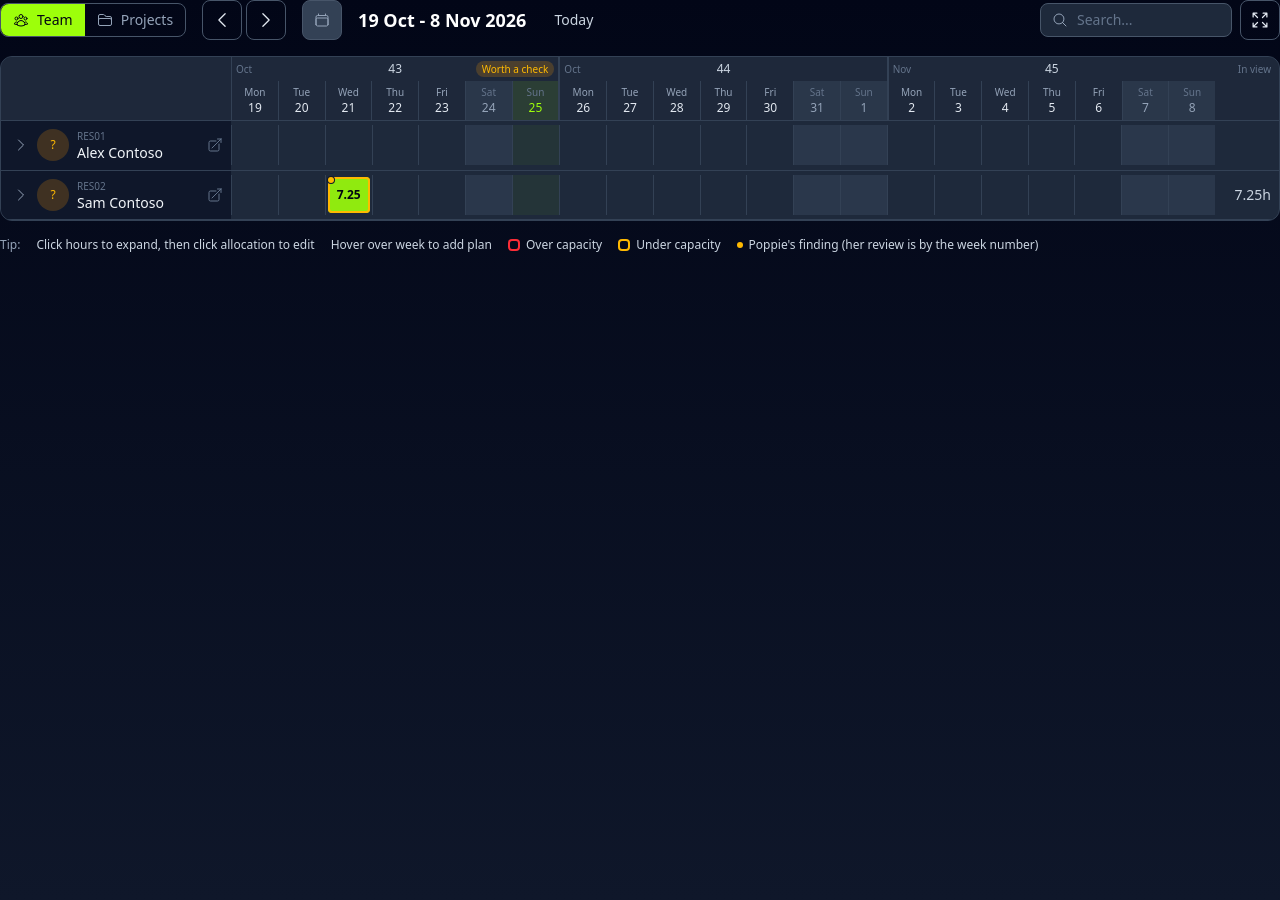
Scenario: PlanPanel plan reviews › asks for changes once per opening when they fail to load, and retries on request
The width and height of the screenshot is (1280, 900).
Click the button with test id "plan-review-week-chip" at point(515, 69), box 476,61 -> 554,77
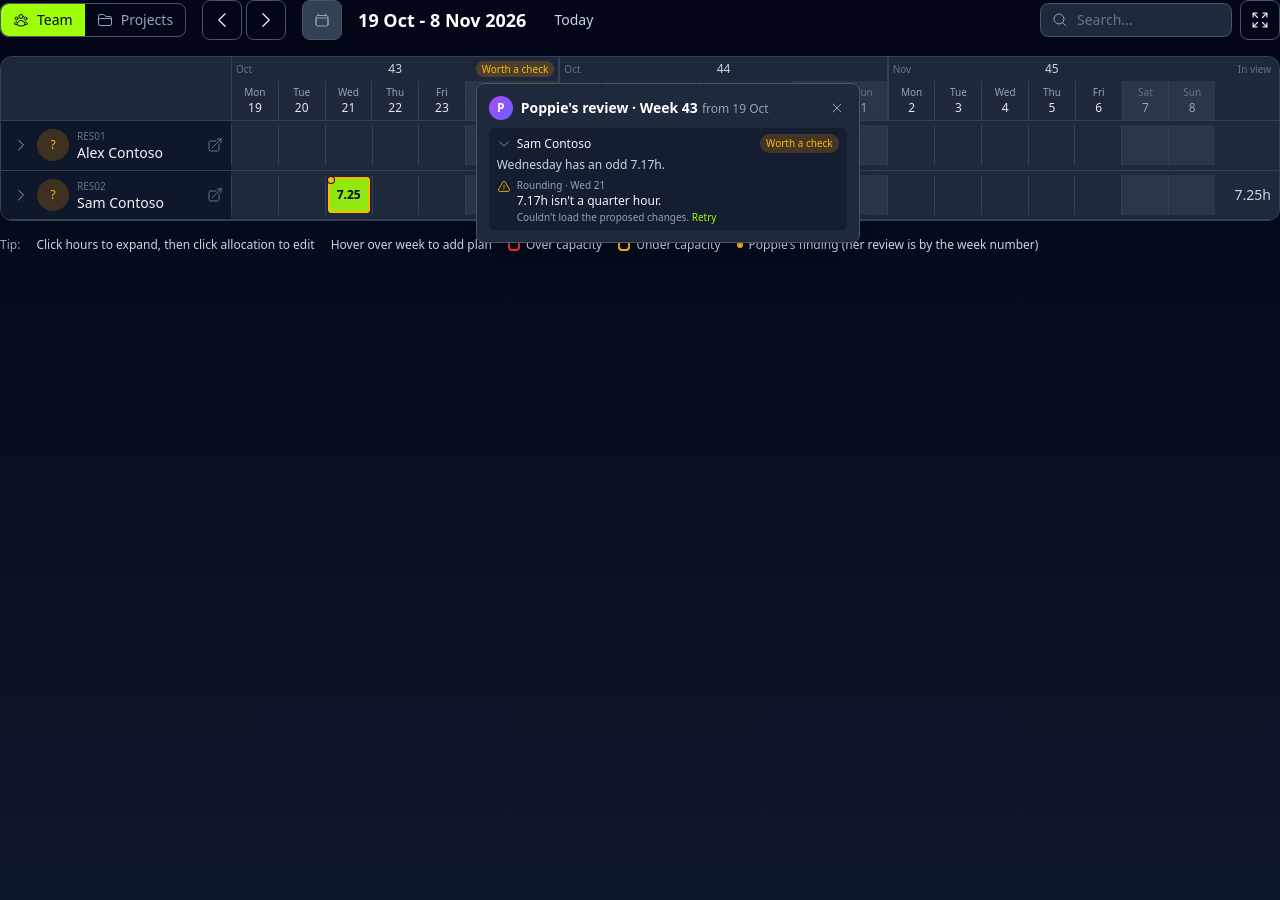
expect the text "Couldn't load the proposed changes. Retry" is shown: met, box 517,210 -> 716,224
Click the button "Retry" at point(704, 217), box 692,211 -> 716,224
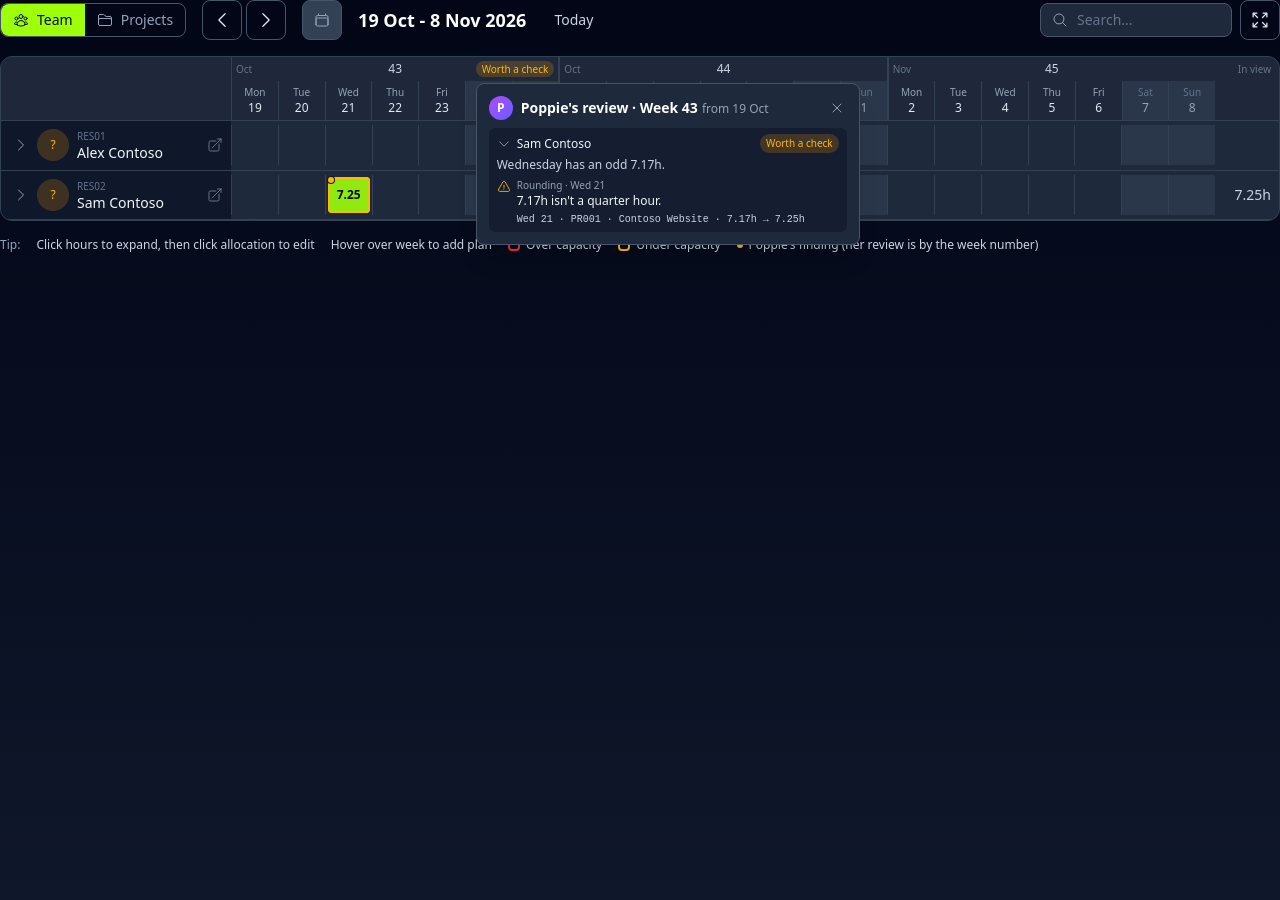
expect the list item "Wed 21 · PR001 · Contoso Website · 7.17h → 7.25h" is shown: met, box 517,213 -> 839,226
